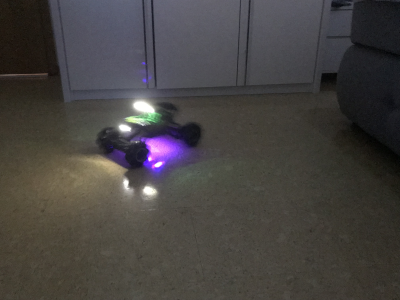remote control car: (94, 95, 203, 169)
